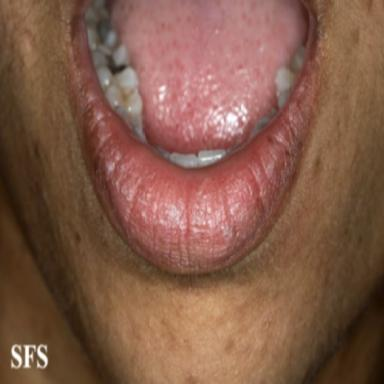lichen: (94, 127, 279, 270)
